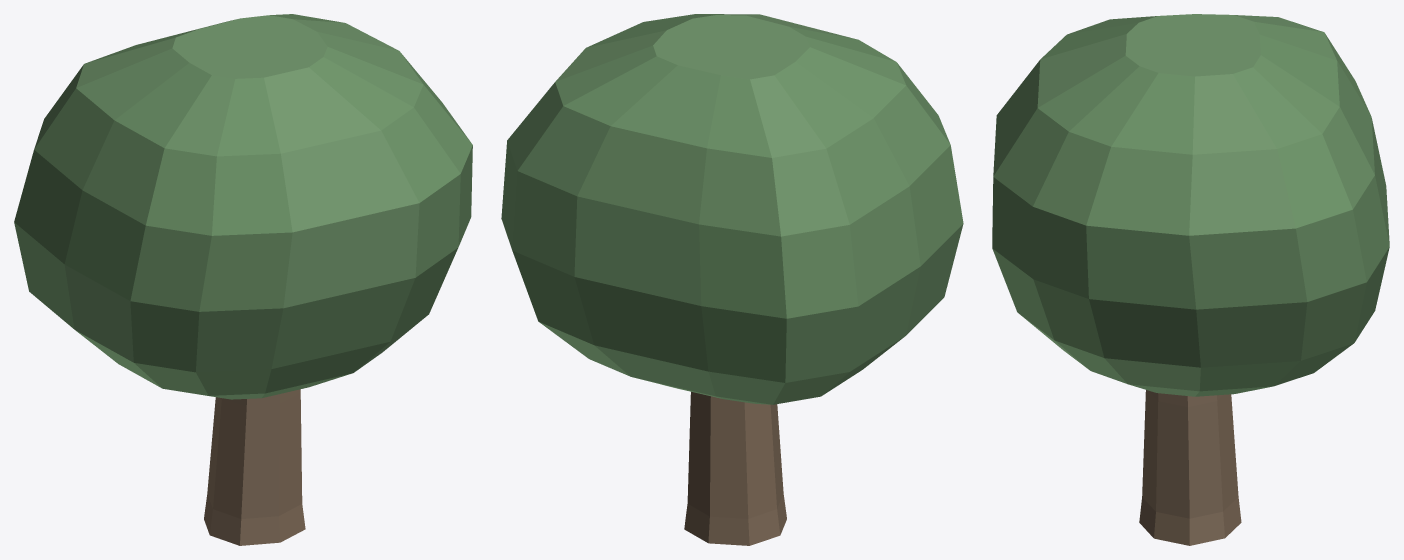
Rendered from tree_medium.glb.
3 renders of one model, left to right at view 1: azimuth 30°, elevation 25°; view 2: azimuth 150°, elevation 25°; view 3: azimuth 270°, elevation 25°, orthographic.
Parts seen in each view (by area): view 1: Tree_Medium_Canopy, Tree_Medium_Trunk; view 2: Tree_Medium_Canopy, Tree_Medium_Trunk; view 3: Tree_Medium_Canopy, Tree_Medium_Trunk.
Part boxes in pixels (x1,y1,x2,y2): Tree_Medium_Canopy: (14,14,472,399); Tree_Medium_Trunk: (204,389,305,545); Tree_Medium_Canopy: (501,14,963,404); Tree_Medium_Trunk: (684,392,786,545); Tree_Medium_Canopy: (992,14,1389,396); Tree_Medium_Trunk: (1139,390,1241,545).
Size of the model in its own units: 1.85 by 2.24 by 1.69.
